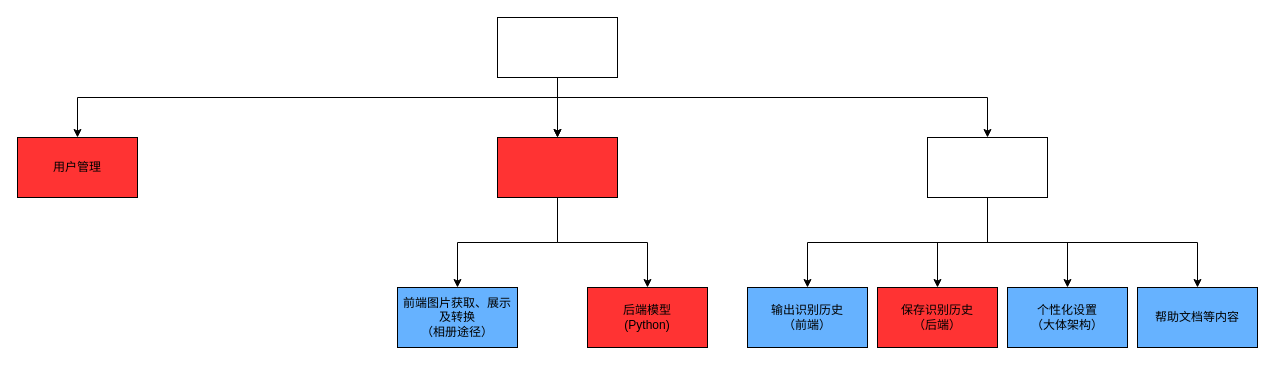
The diagram is 1275 pixels wide and 365 high, and some of its shapes have lost their labels. Here are the shapes that lost their labels. From the top down, the centre of each, then its label:
At pixel 557 47: "证物检测APP".
At pixel 557 167: "图像识别".
At pixel 987 167: "其余架构".
